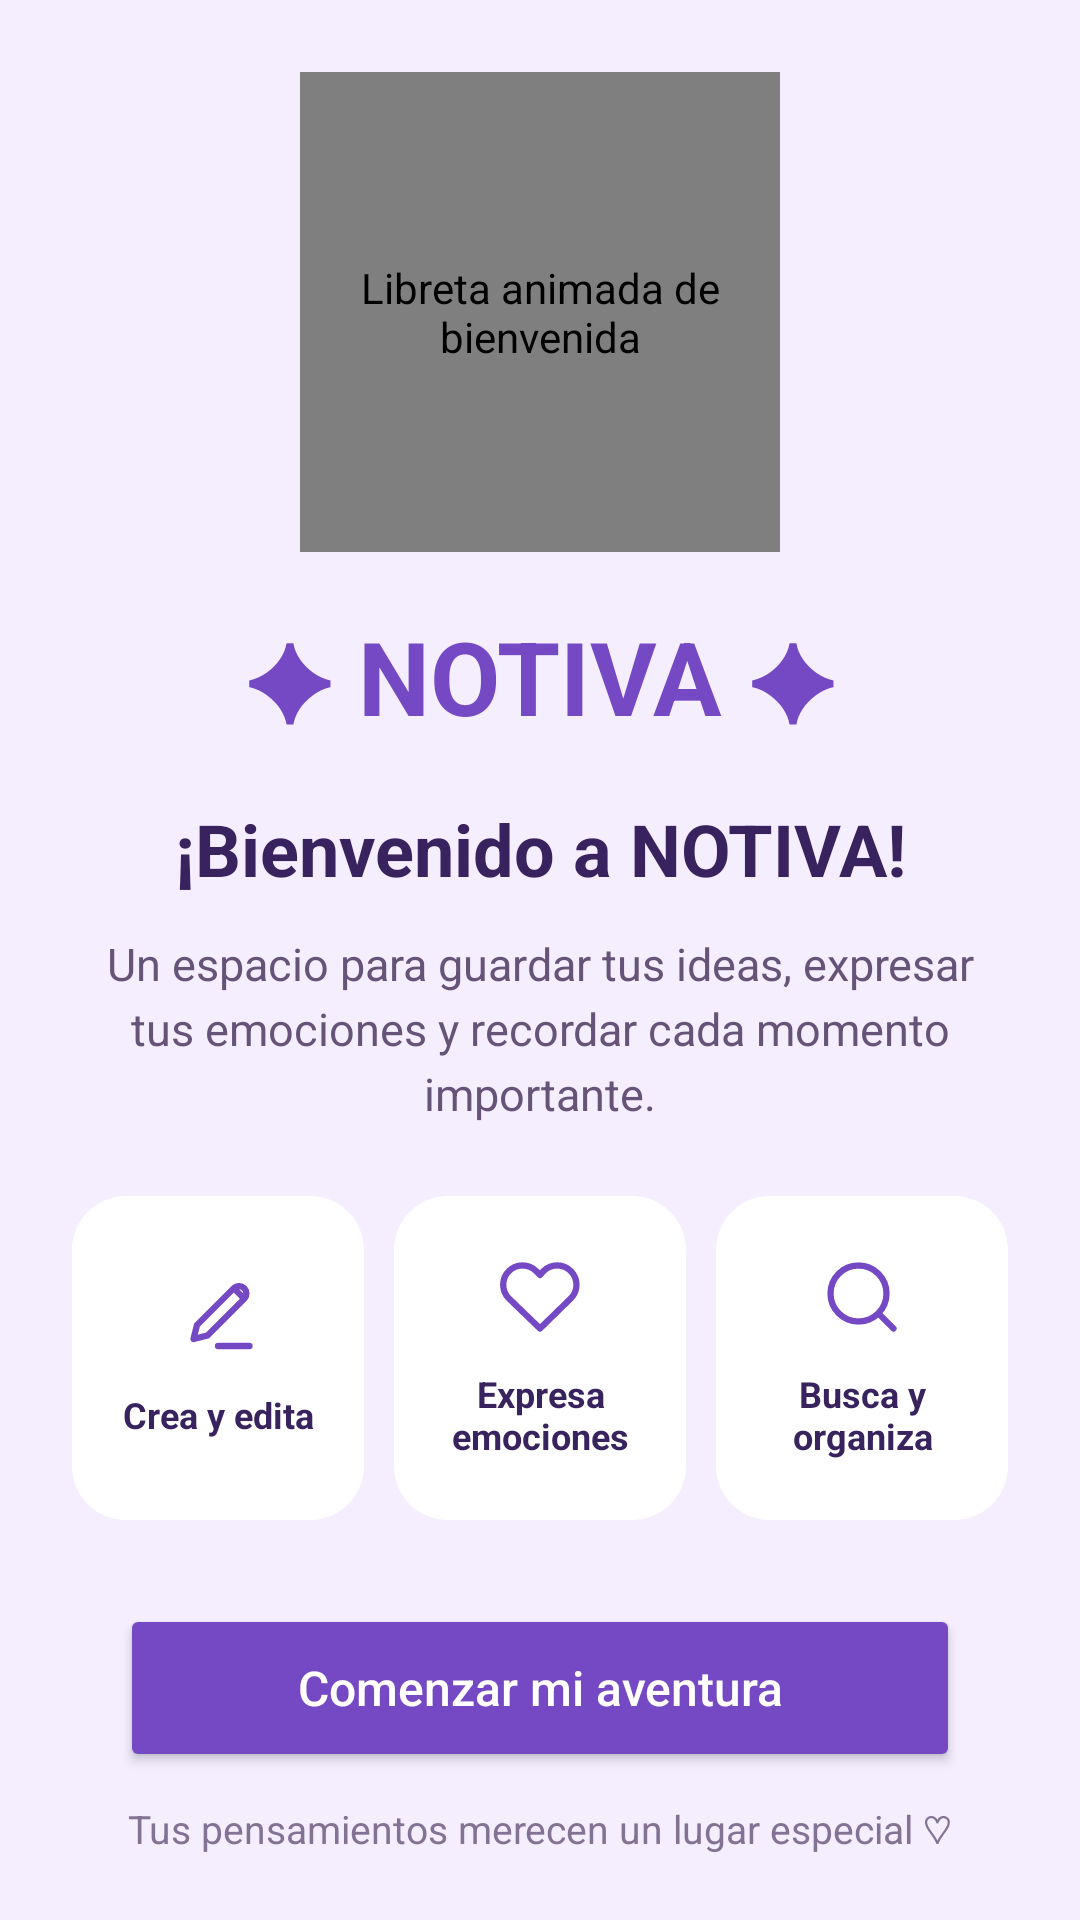

Where icons sit on this 1080×1920 app screen, as rect(x1, y1, x2, y2):
Buscar y organizar notas: rect(827, 1262, 897, 1332)
Crear y editar notas: rect(190, 1283, 253, 1350)
